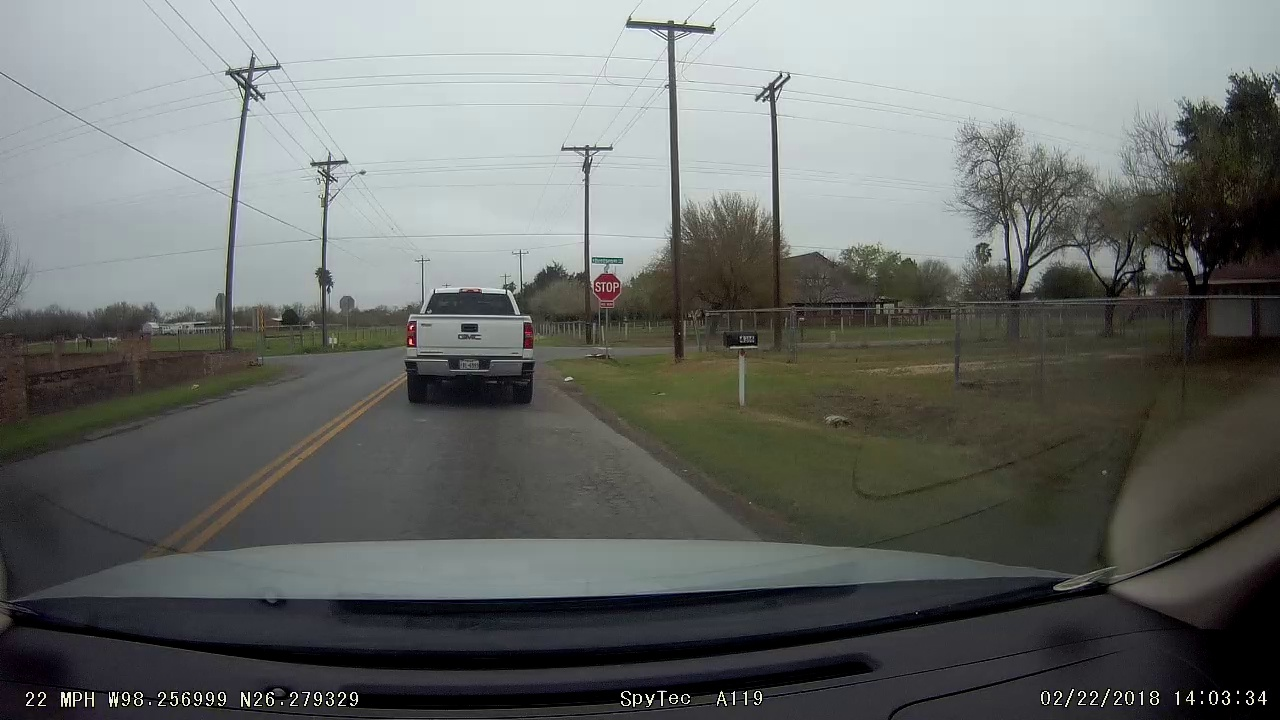alligatorCrack: (549, 466, 652, 517)
